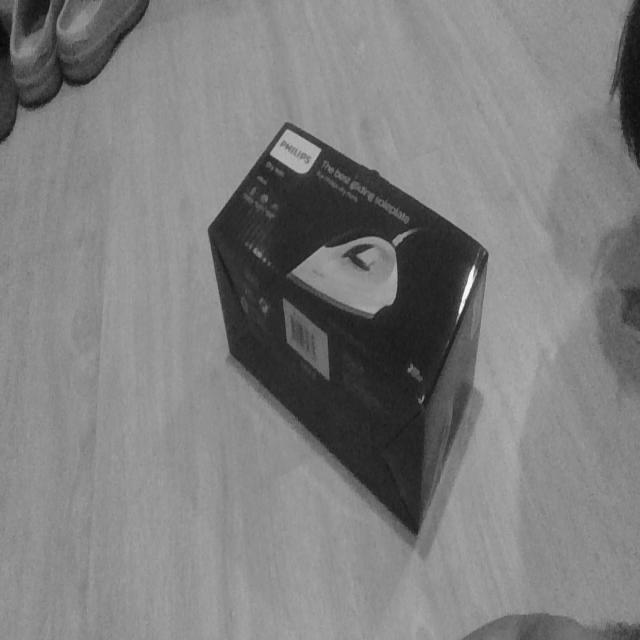IRON: (205, 119, 490, 542)
